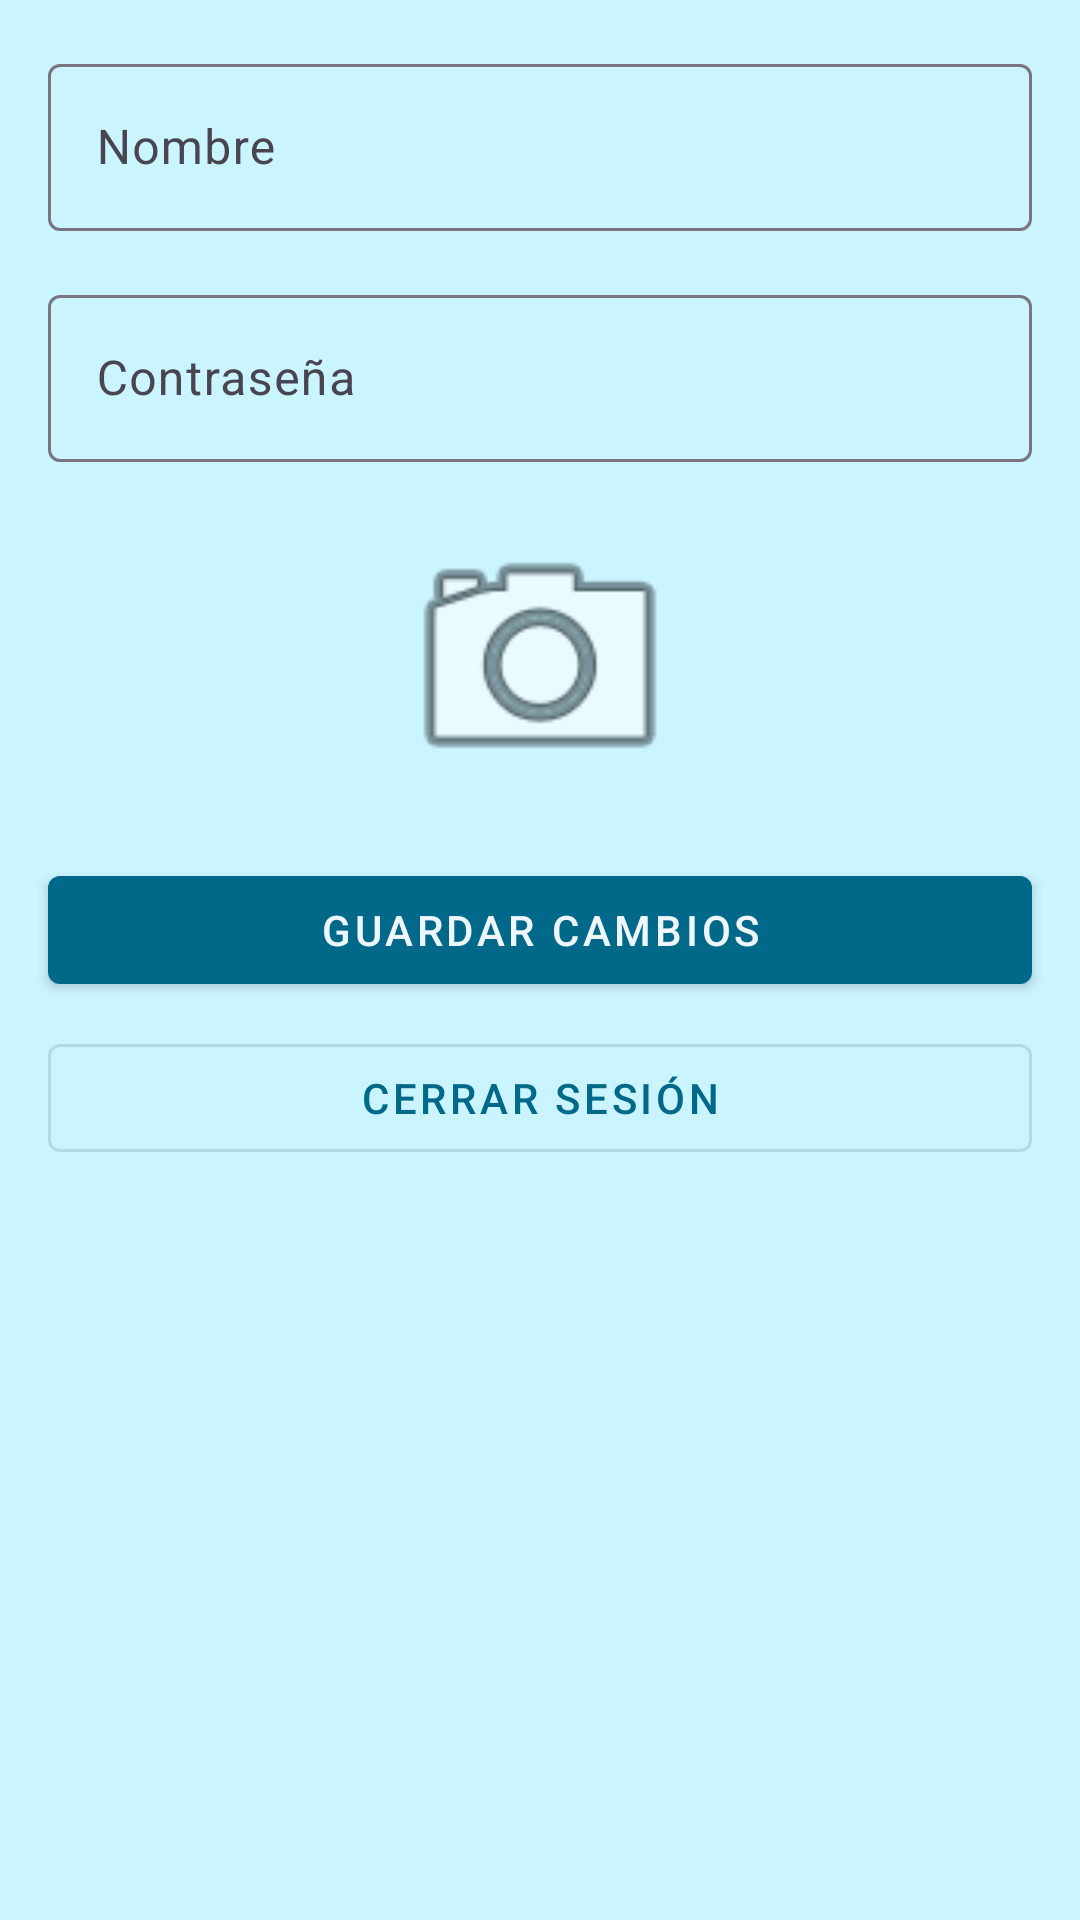

Icon click points for this 1080px x 1920px phone screenshot, format (x,y):
camera: (540,655)
